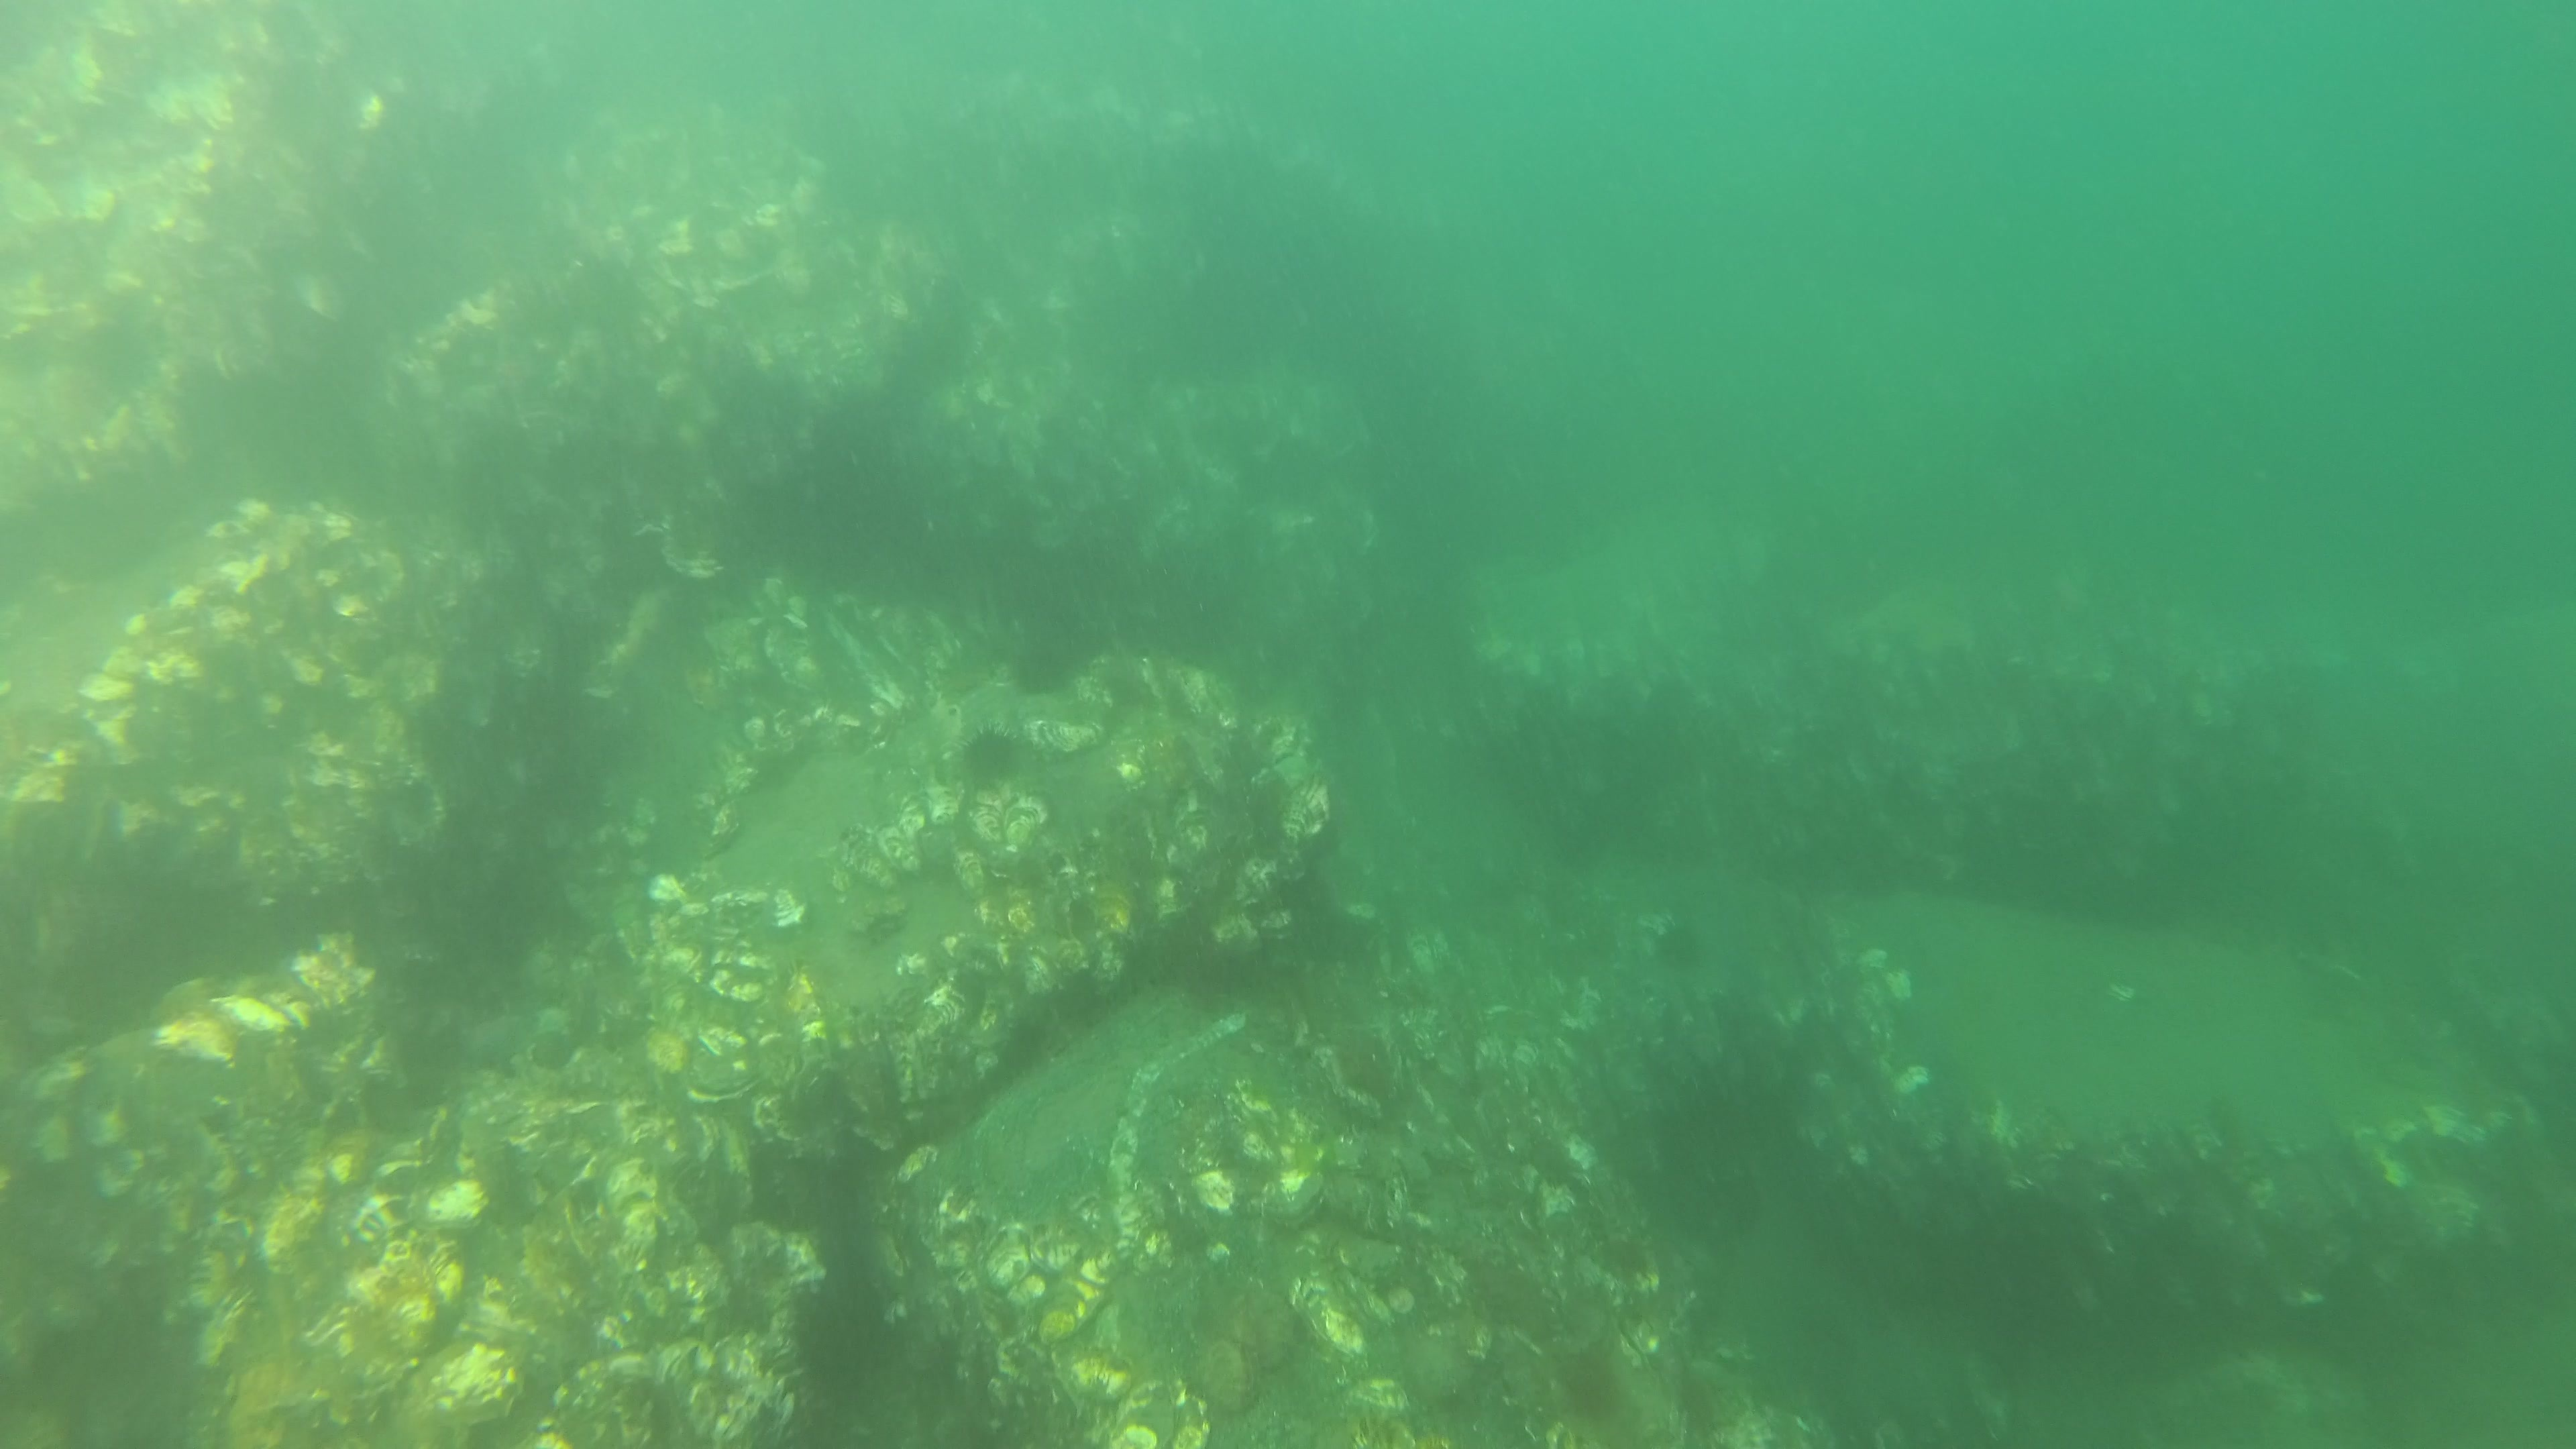echinus: (775, 1274, 895, 1401), (1012, 639, 1077, 697), (959, 725, 1024, 782)
